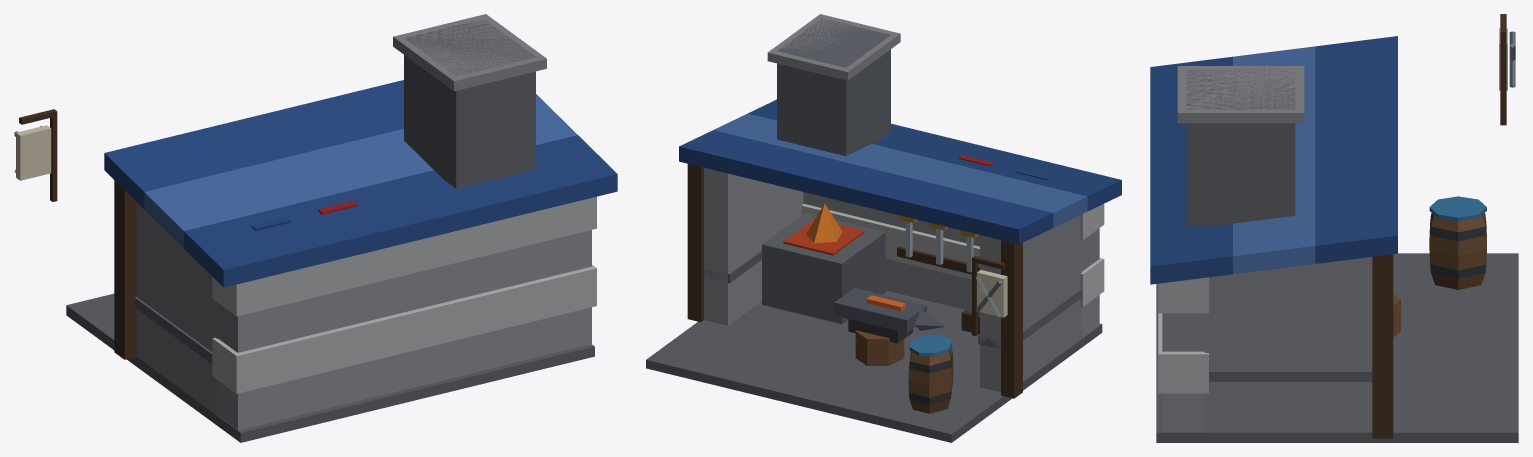
File: Decor_KnightCastle_Armory.fbx
3 views of the same model, side by side, from view 1: azimuth 30°, elevation 25°; view 2: azimuth 150°, elevation 25°; view 3: azimuth 270°, elevation 25° (orthographic). The views are drawn at different scales.
Visible parts, largest first — view 1: Armory_Body; view 2: Armory_Body; view 3: Armory_Body.
Boxes of the visible parts, box(x1,y1,x2,y2) form: Armory_Body: box(14, 14, 617, 442); Armory_Body: box(646, 14, 1121, 442); Armory_Body: box(1150, 14, 1518, 442).
Bounding box in the file's own units: 18 × 12 × 12.88.
